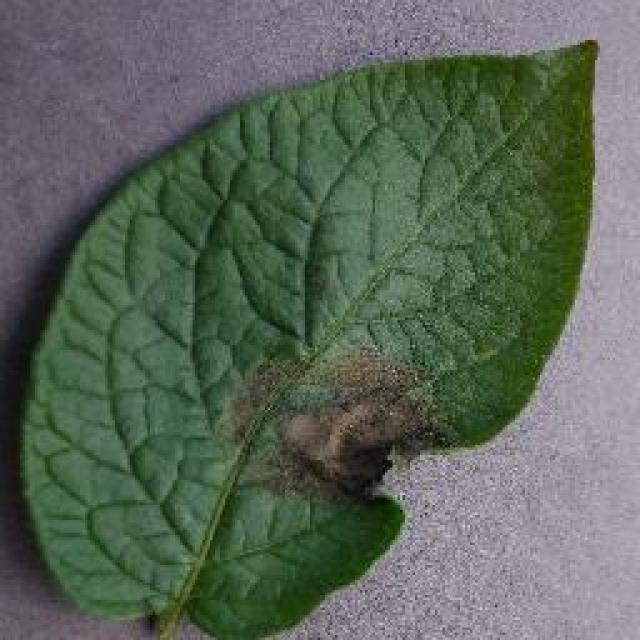late_blight: (12, 35, 602, 637)
